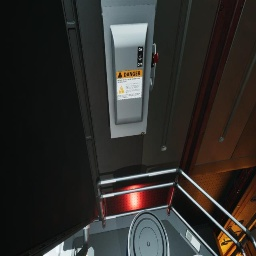SafetySwitchPanel ,: (101, 0, 158, 138)
